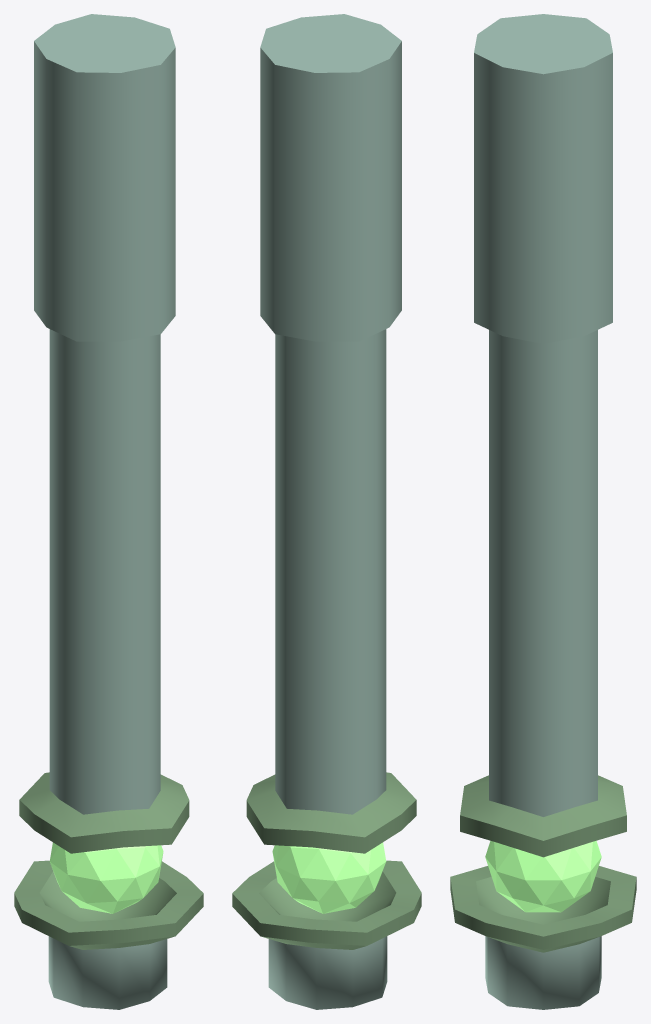
The model's file is Tech1.fbx.
3 renders of one model, left to right at view 1: azimuth 30°, elevation 25°; view 2: azimuth 150°, elevation 25°; view 3: azimuth 270°, elevation 25°, orthographic.
Visible parts, largest first — view 1: Tech1, Tech1Ball; view 2: Tech1, Tech1Ball; view 3: Tech1, Tech1Ball.
Boxes of the visible parts, x1,y1,x2,y2 form: Tech1: [14, 14, 203, 1009]; Tech1Ball: [49, 842, 163, 913]; Tech1: [232, 14, 421, 1009]; Tech1Ball: [272, 842, 386, 913]; Tech1: [450, 14, 636, 1009]; Tech1Ball: [485, 840, 601, 912].
Bounding box in the file's own units: 327 × 1783 × 319.
